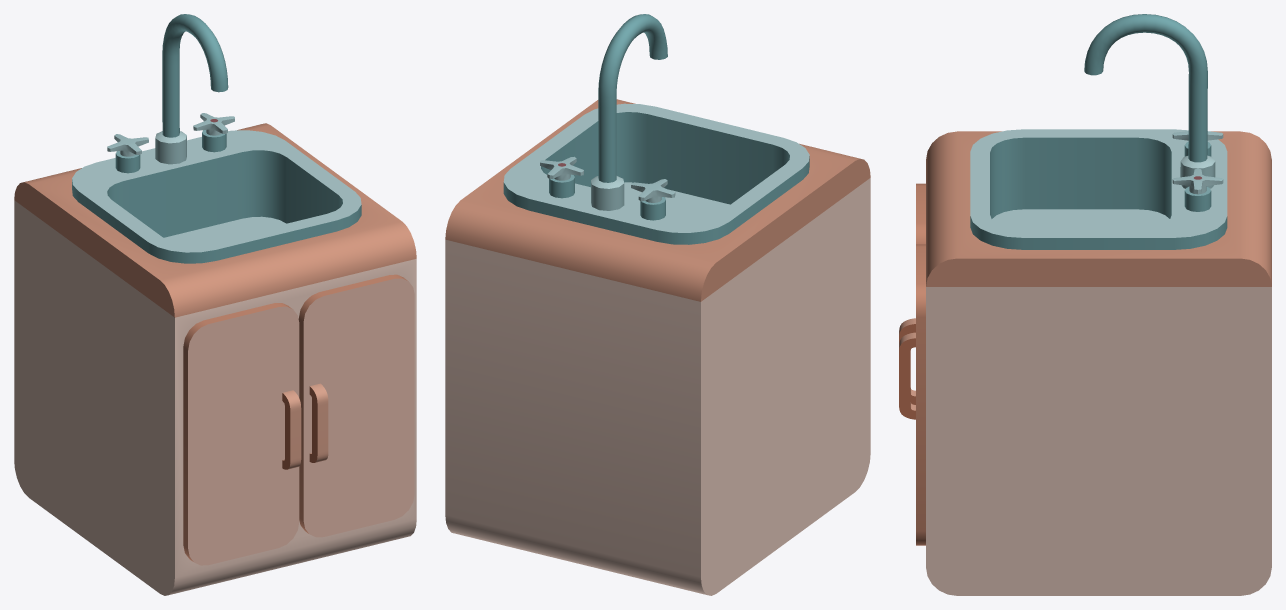
File: Sink.fbx
3 views of the same model, side by side, from view 1: azimuth 30°, elevation 25°; view 2: azimuth 150°, elevation 25°; view 3: azimuth 270°, elevation 25° (orthographic). The views are drawn at different scales.
Visible parts, largest first — view 1: Sink, Sink.001, Sink.002, Sink.003, Sink.005, Sink.004; view 2: Sink, Sink.003, Sink.004, Sink.005; view 3: Sink, Sink.003, Sink.002, Sink.001, Sink.005.
Boxes of the visible parts, box(x1,y1,x2,y2) form: Sink: box(14, 123, 416, 595); Sink.001: box(183, 303, 301, 565); Sink.002: box(298, 274, 414, 537); Sink.003: box(162, 14, 228, 137); Sink.005: box(193, 113, 234, 135); Sink.004: box(107, 134, 148, 156); Sink: box(445, 99, 870, 595); Sink.003: box(598, 14, 667, 182); Sink.004: box(631, 179, 675, 202); Sink.005: box(540, 156, 583, 180); Sink: box(926, 129, 1271, 595); Sink.003: box(1084, 14, 1207, 162); Sink.002: box(899, 244, 925, 545); Sink.001: box(899, 183, 925, 404); Sink.005: box(1172, 168, 1223, 194).
Bounding box in the file's own units: 1.43 × 2.73 × 1.78.
